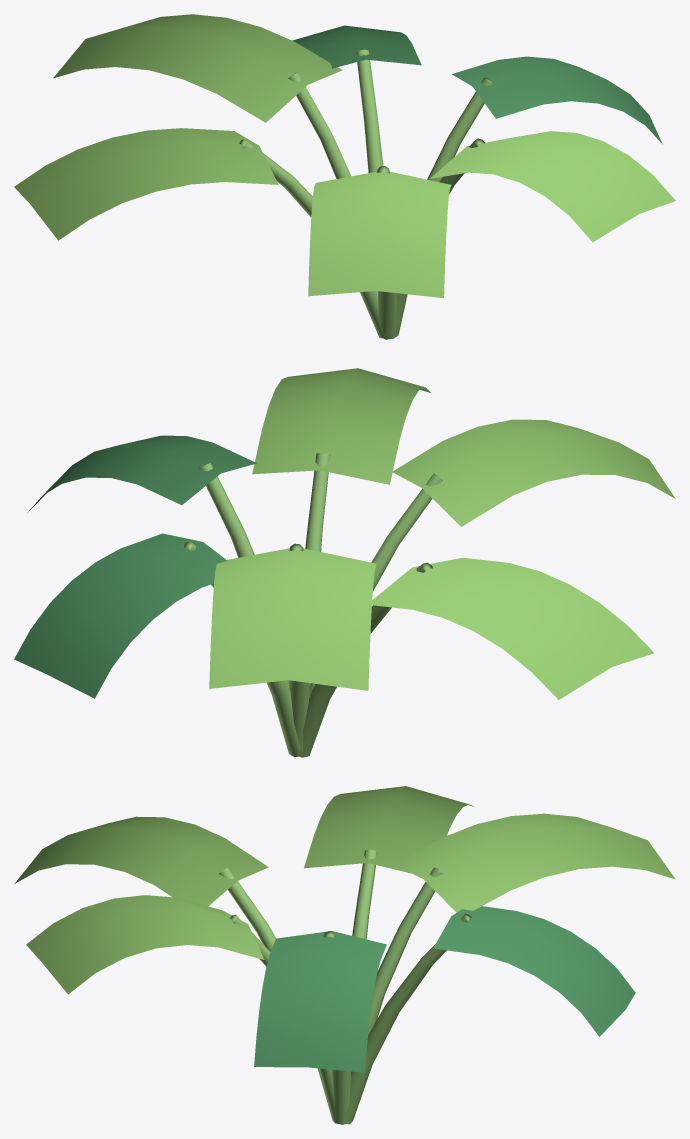
File: plant_broadleaf_1.glb
3 renders of one model, top to bottom at view 1: azimuth 30°, elevation 25°; view 2: azimuth 150°, elevation 25°; view 3: azimuth 270°, elevation 25°, orthographic. The views are drawn at different scales.
Parts seen in each view (by area): view 1: plant_broadleaf_1; view 2: plant_broadleaf_1; view 3: plant_broadleaf_1.
Part boxes in pixels (box(x1,y1,x2,y2)): plant_broadleaf_1: box(14, 14, 675, 339); plant_broadleaf_1: box(14, 368, 675, 757); plant_broadleaf_1: box(14, 786, 675, 1124).
Size of the model in its own units: 2.72 by 1.15 by 2.81.
